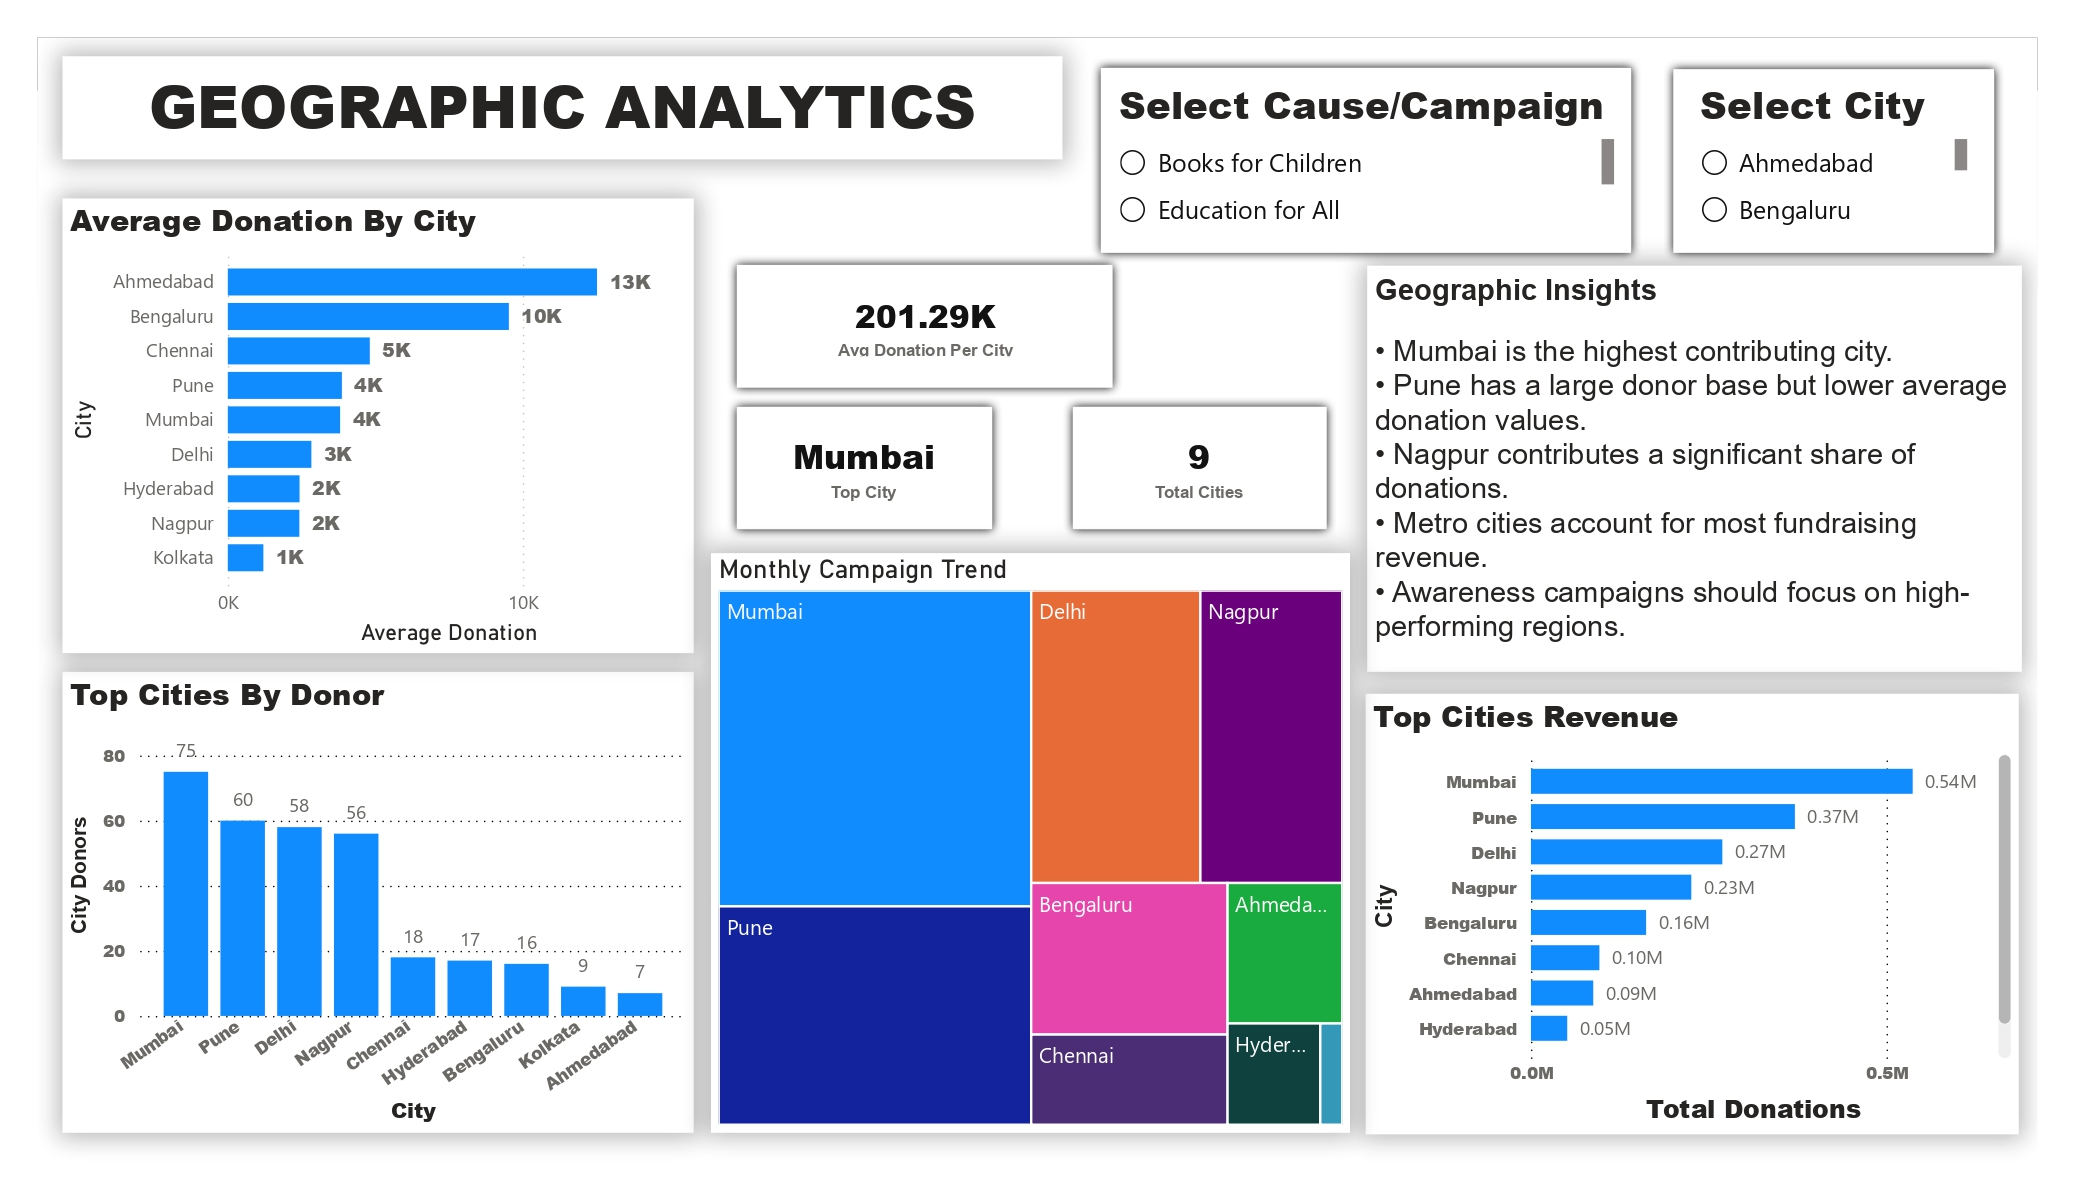

The page's visual inventory and layout, read from the dashboard file:
{"tool":"powerbi","page":{"name":"Page 4","canvas":[1280,720],"ordinal":3},"visuals":[{"type":"shape","box":[441.4,230,175.7,91.4],"z":0},{"type":"textbox","box":[851.4,145.7,418.6,260],"z":1000},{"type":"shape","box":[1041.4,14.3,217.1,130],"z":2000},{"type":"shape","box":[674.3,12.9,351.4,131.4],"z":3000},{"type":"textbox","box":[16,12,640,66],"z":4000},{"type":"listSlicer","title":"Select Cause/Campaign","fields":{"Values":["NayePankh Donations.Cause/Campaign"]},"box":[687.1,25.7,327.1,102.9],"z":5000},{"type":"listSlicer","title":"Select City","fields":{"Values":["NayePankh Donations.City"]},"box":[1058.6,25.7,181.4,102.9],"z":6000},{"type":"columnChart","title":"Top Cities By Donor","fields":{"Category":["NayePankh Donations.City"],"Y":["NayePankh Donations.City Donors"]},"box":[15.7,405.7,404.3,295.7],"z":7000},{"type":"clusteredBarChart","title":"Top Cities Revenue","fields":{"Y":["NayePankh Donations.Total Donations"],"Category":["NayePankh Donations.City"]},"box":[850,420,418,282],"z":8000},{"type":"clusteredBarChart","title":"Average Donation By City","fields":{"Y":["NayePankh Donations.Average Donation"],"Category":["NayePankh Donations.City"]},"box":[15.7,102.9,404.3,291.4],"z":9000},{"type":"shape","box":[441.4,138.6,252.9,91.4],"z":10000},{"type":"cardVisual","fields":{"Data":["Calendar.Avg Donation Per City"]},"box":[451.4,148.6,234.3,72.9],"z":11000},{"type":"shape","box":[655.7,230,175.7,91.4],"z":12000},{"type":"cardVisual","fields":{"Data":["NayePankh Donations.Top City"]},"box":[451.4,237.1,155.7,77.1],"z":13000},{"type":"cardVisual","fields":{"Data":["NayePankh Donations.Total Cities"]},"box":[671.4,237.1,144.3,77.1],"z":14000},{"type":"treemap","title":"Monthly Campaign Trend","fields":{"Values":["NayePankh Donations.Total Donations"],"Group":["NayePankh Donations.City"]},"box":[431.4,330,408.6,371.4],"z":15000}]}

Visuals, with their boxes on the page's 1280x720 design canvas (x1, y1, x2, y2). These are canvas units, not pixel positions in the 2075x1200 screenshot, which may show the page scaled, cropped or inside an application window:
shape: (441,230,617,321)
textbox: (851,146,1270,406)
shape: (1041,14,1258,144)
shape: (674,13,1026,144)
textbox: (16,12,656,78)
"Select Cause/Campaign" listSlicer: (687,26,1014,129)
"Select City" listSlicer: (1059,26,1240,129)
"Top Cities By Donor" columnChart: (16,406,420,701)
"Top Cities Revenue" clusteredBarChart: (850,420,1268,702)
"Average Donation By City" clusteredBarChart: (16,103,420,394)
shape: (441,139,694,230)
cardVisual - Calendar.Avg Donation Per City: (451,149,686,222)
shape: (656,230,831,321)
cardVisual - NayePankh Donations.Top City: (451,237,607,314)
cardVisual - NayePankh Donations.Total Cities: (671,237,816,314)
"Monthly Campaign Trend" treemap: (431,330,840,701)
